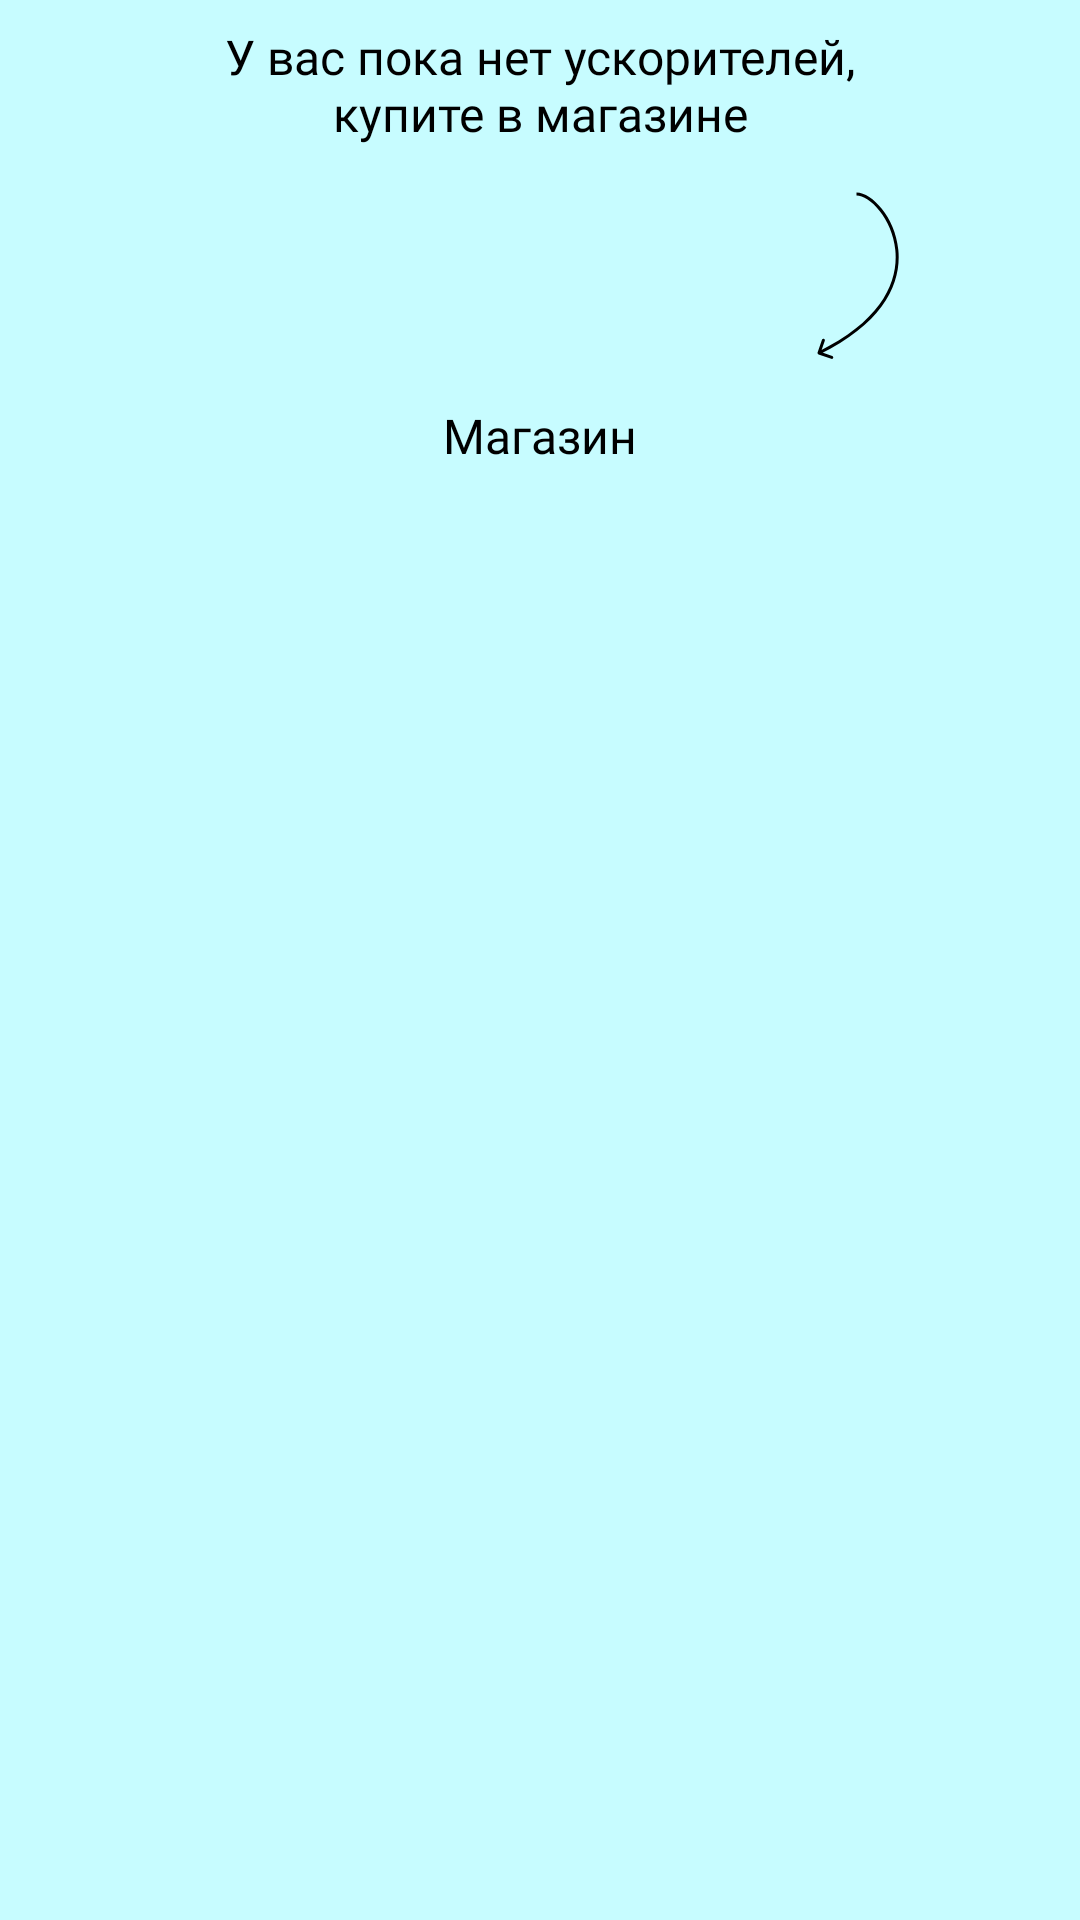

Icon click points for this 1080w x 1920h phone screenshot, format (x,y):
hint arrow: (858,275)
